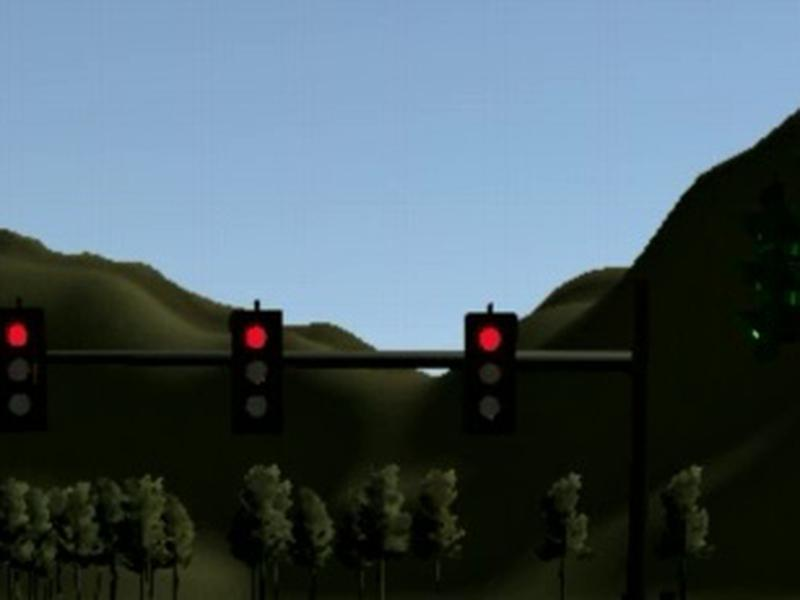Red: (463, 312, 519, 428), (233, 308, 284, 422), (1, 305, 47, 425)
